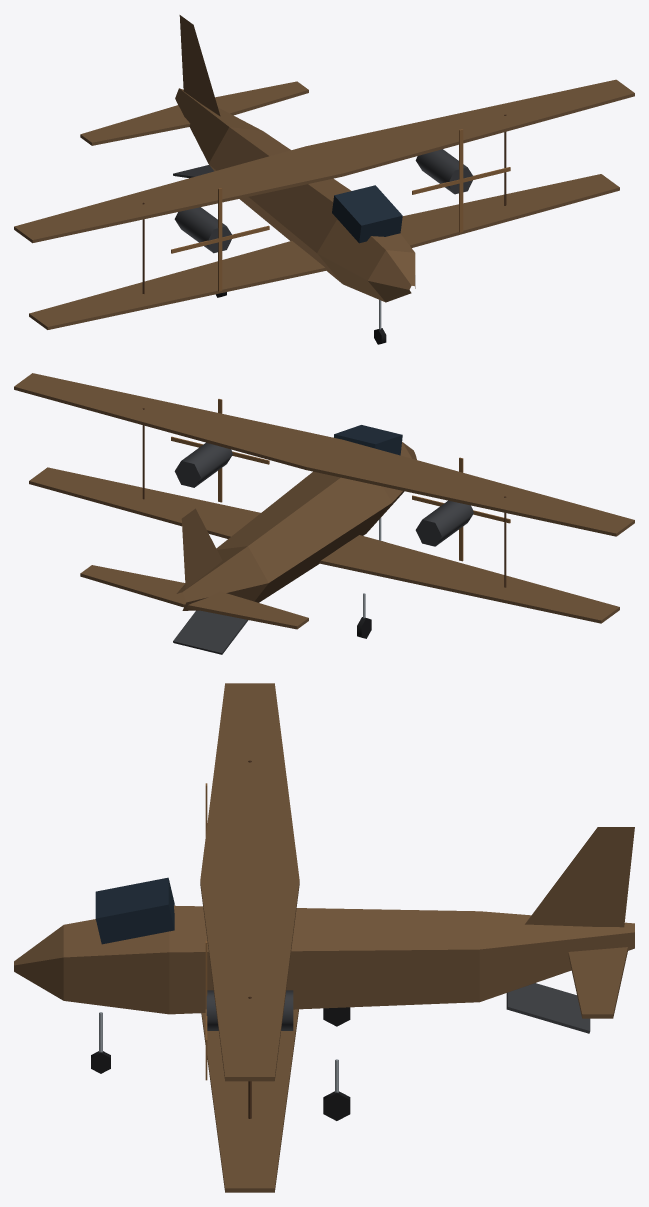
File: veh_air_transport_plane_a05_lod1.glb
3 views of the same model, one above another, from view 1: azimuth 30°, elevation 25°; view 2: azimuth 150°, elevation 25°; view 3: azimuth 270°, elevation 25° (orthographic). The views are drawn at different scales.
Parts seen in each view (by area): view 1: body, propeller_1, propeller_0; view 2: body, ramp, propeller_1, propeller_0; view 3: body, ramp, gear_2.
Part boxes in pixels (x1,y1,x2,y2): body: [14, 15, 634, 329]; propeller_1: [412, 129, 510, 232]; propeller_0: [171, 188, 269, 291]; body: [14, 373, 634, 629]; ramp: [173, 610, 248, 654]; propeller_1: [171, 399, 269, 502]; propeller_0: [412, 457, 510, 561]; body: [14, 683, 634, 1192]; ramp: [506, 983, 590, 1033]; gear_2: [323, 1059, 350, 1120].
Size of the model in its own units: 24 by 7 by 16.
